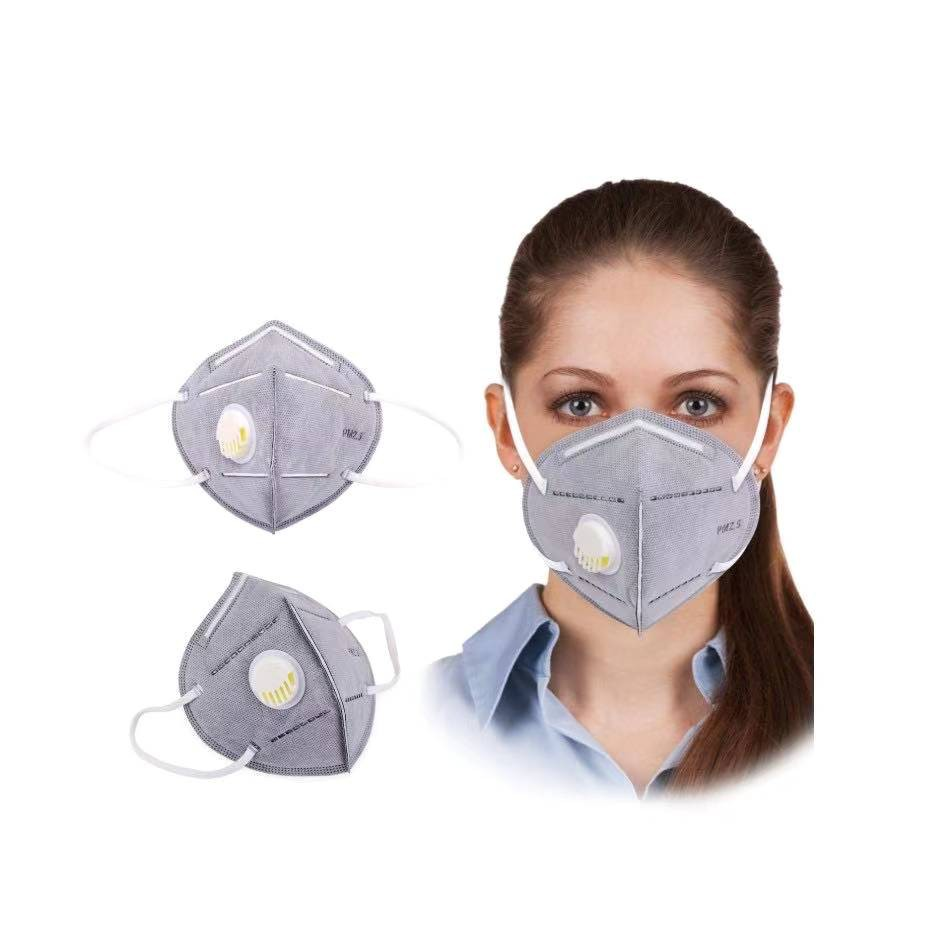Mask: (497, 261, 772, 608)
